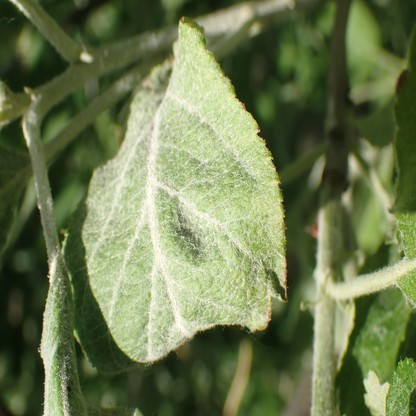powder: (82, 17, 288, 364), (38, 249, 84, 416), (363, 355, 415, 416), (396, 209, 416, 304)
